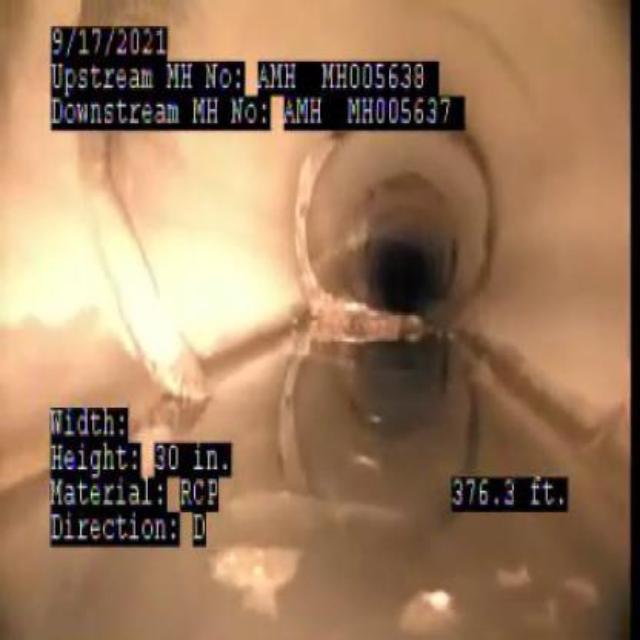Debris: (305, 277, 435, 363)
